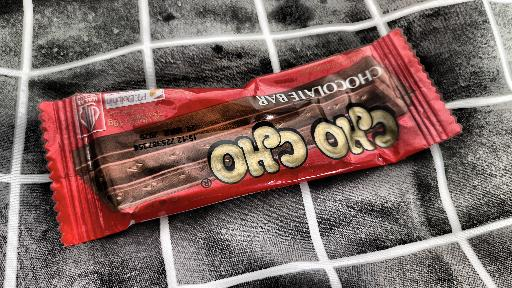chocho: (37, 9, 431, 279)
